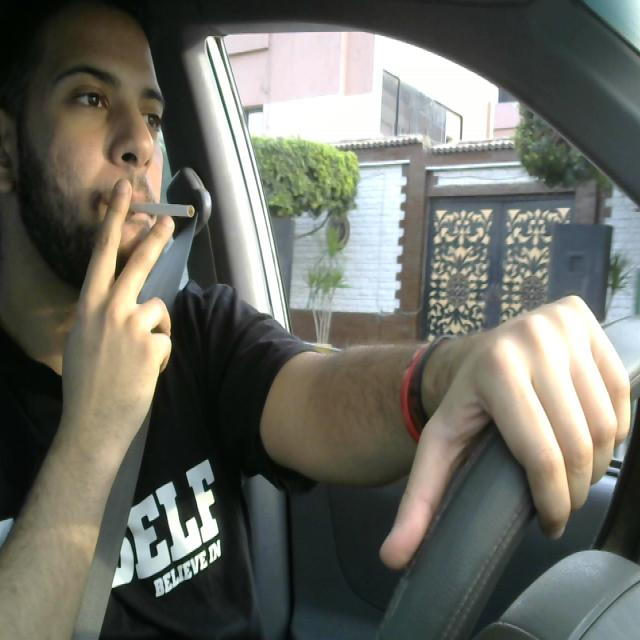smoking: (109, 195, 204, 226)
